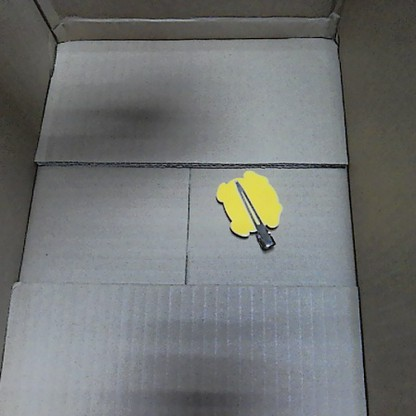dogclip: (213, 164, 283, 250)
